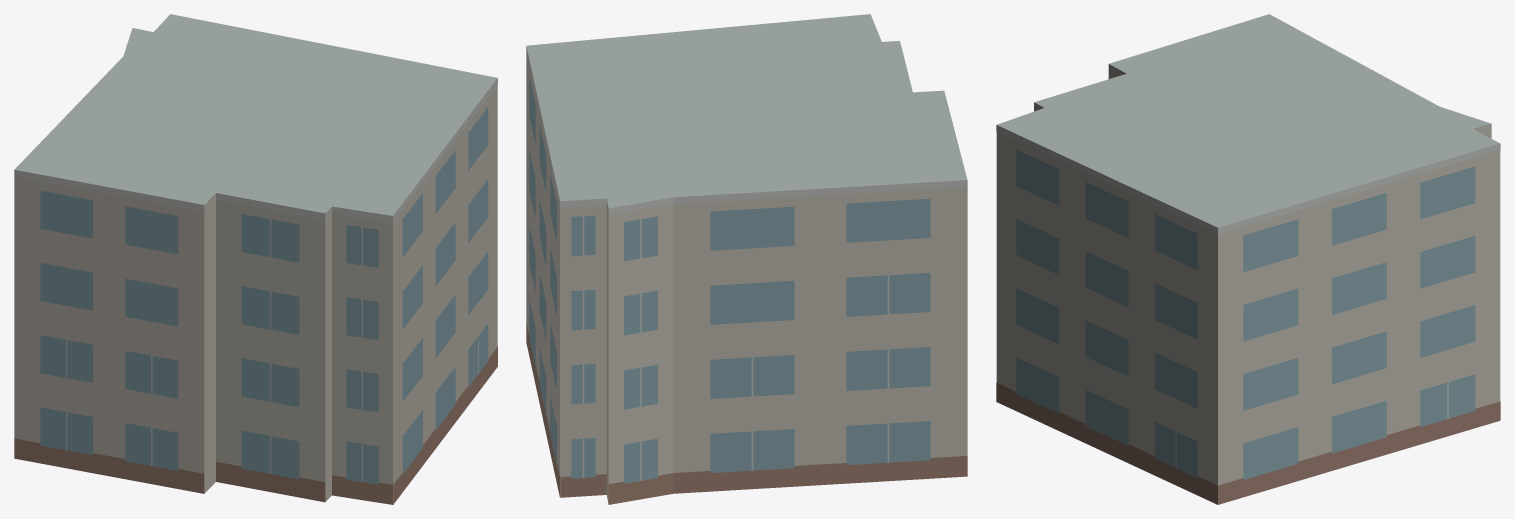
Rendered from survey-upis-32644192.glb.
The picture shows the model from 3 angles, left to right: view 1: azimuth 30°, elevation 25°; view 2: azimuth 150°, elevation 25°; view 3: azimuth 270°, elevation 25°; orthographic projection. The views are drawn at different scales.
Parts seen in each view (by area): view 1: survey-upis-32644192.tmp; view 2: survey-upis-32644192.tmp; view 3: survey-upis-32644192.tmp.
Boxes of the visible parts, x1,y1,x2,y2 form: survey-upis-32644192.tmp: (14,14,497,504); survey-upis-32644192.tmp: (526,14,967,504); survey-upis-32644192.tmp: (996,14,1500,504).
Bounding box in the file's own units: 17.21 × 10.4 × 17.15.
